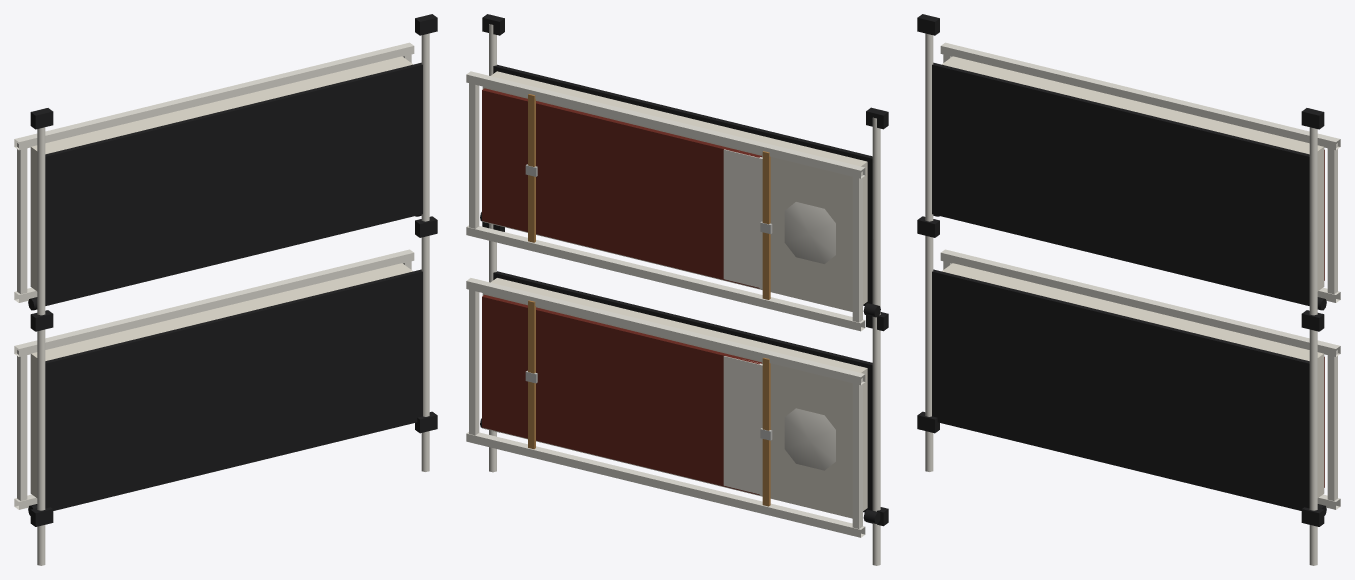
3 views of the same model, side by side, from view 1: azimuth 30°, elevation 25°; view 2: azimuth 150°, elevation 25°; view 3: azimuth 330°, elevation 25° (orthographic).
Parts seen in each view (by area): view 1: parametric-variant-berth-double-3rd-49e133598be6fe8da33d; view 2: parametric-variant-berth-double-3rd-49e133598be6fe8da33d; view 3: parametric-variant-berth-double-3rd-49e133598be6fe8da33d.
Part boxes in pixels (x1,y1,x2,y2): parametric-variant-berth-double-3rd-49e133598be6fe8da33d: (14,14,437,565); parametric-variant-berth-double-3rd-49e133598be6fe8da33d: (466,14,888,565); parametric-variant-berth-double-3rd-49e133598be6fe8da33d: (917,14,1340,565).
Bounding box in the file's own units: 1.83 × 1.97 × 0.202.
